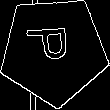P_E: (28, 30, 80, 71)
